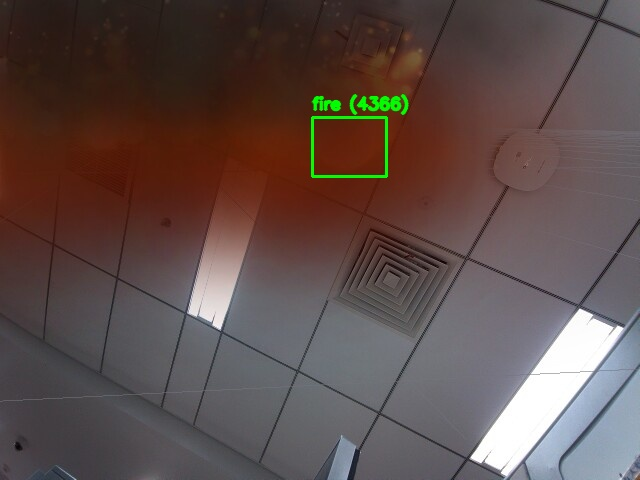fire: (312, 117, 386, 176)
